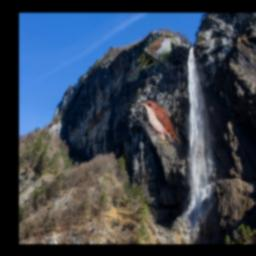Cuckoo: (130, 34, 175, 82), (140, 100, 181, 143)
